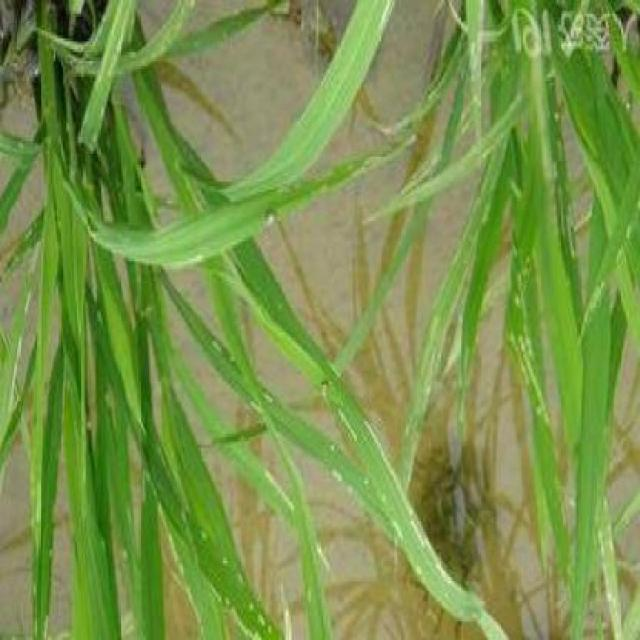rice-bug: (263, 198, 282, 236), (317, 368, 335, 403)
